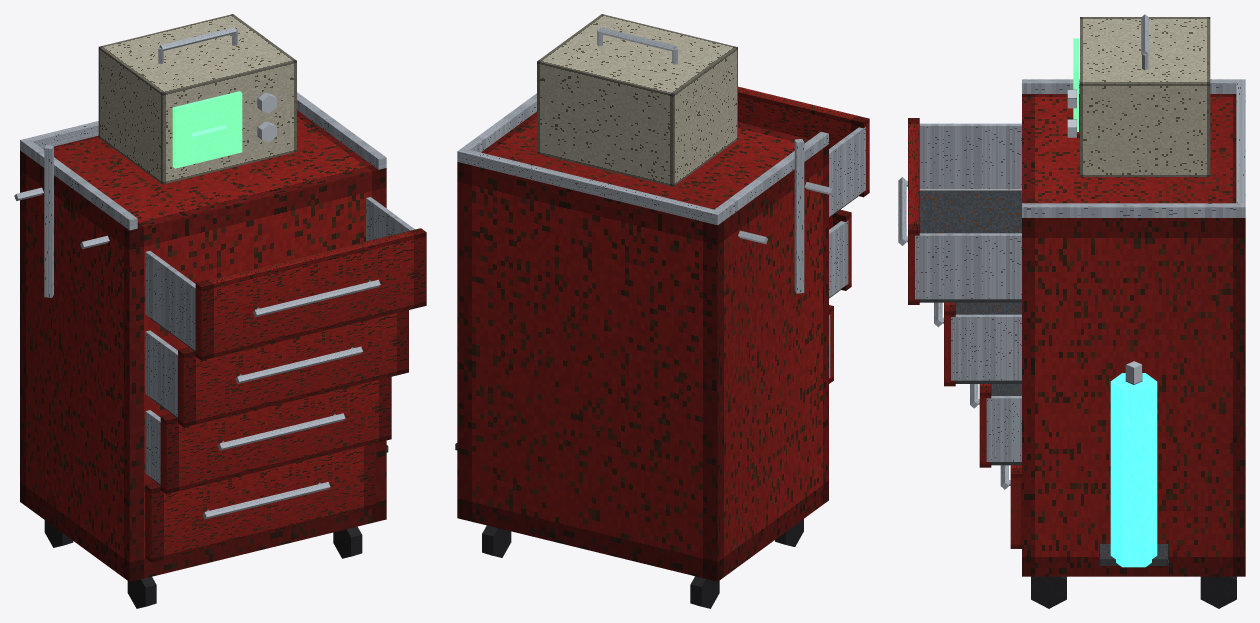
The model's file is crash_cart_habitation_worn.glb.
The picture shows the model from 3 angles, left to right: view 1: azimuth 30°, elevation 25°; view 2: azimuth 150°, elevation 25°; view 3: azimuth 270°, elevation 25°; orthographic projection. The views are drawn at different scales.
Parts seen in each view (by area): view 1: crash_cart_habitation_worn; view 2: crash_cart_habitation_worn; view 3: crash_cart_habitation_worn.
Part boxes in pixels (x1,y1,x2,y2): crash_cart_habitation_worn: (14, 14, 426, 608); crash_cart_habitation_worn: (455, 14, 869, 608); crash_cart_habitation_worn: (898, 14, 1245, 608).
Size of the model in its own units: 0.8503 by 1.24 by 0.746.
Materials: 8 (8 with a texture image).
